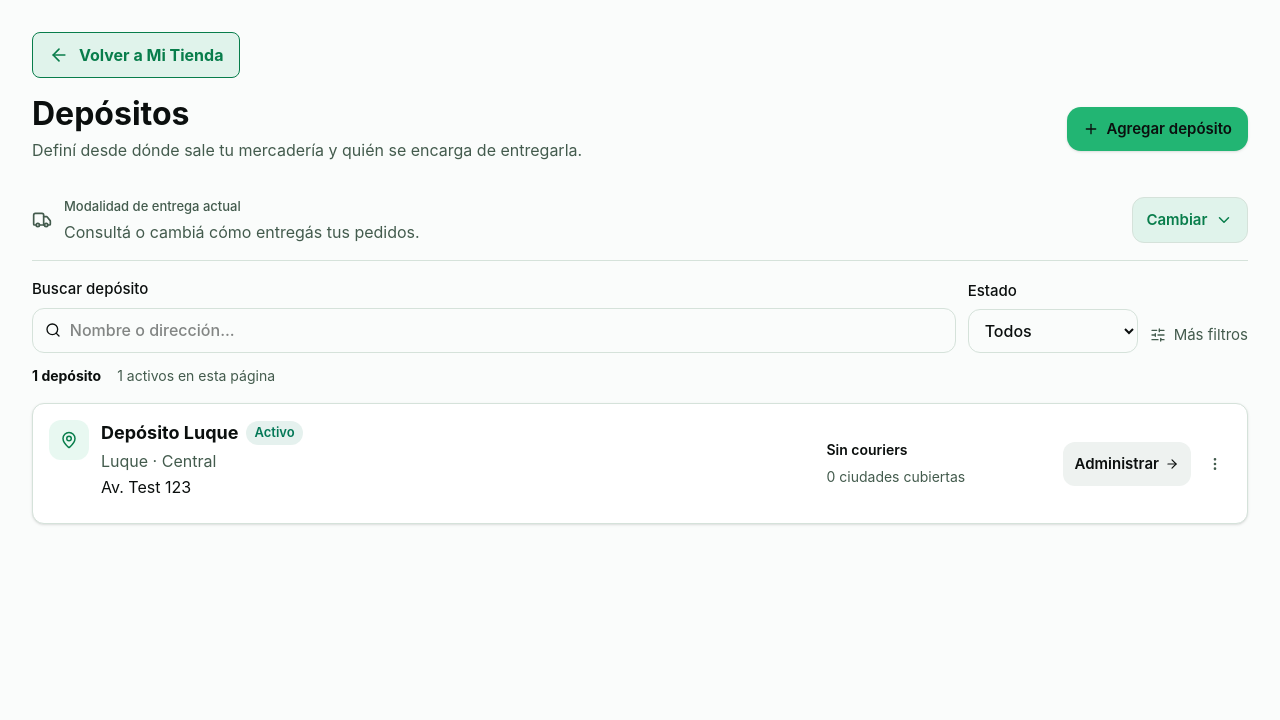
Test case: Depósitos: alta simple › pagina el catálogo RAHA completo sin recortarlo en el frontend
This screenshot has width=1280, height=720.
Check: the heading "Depósito Luque" is shown, box [101,420,238,446]
Click the button "Administrar": (1127, 464) [1062,442,1191,486]
(page scrolled)
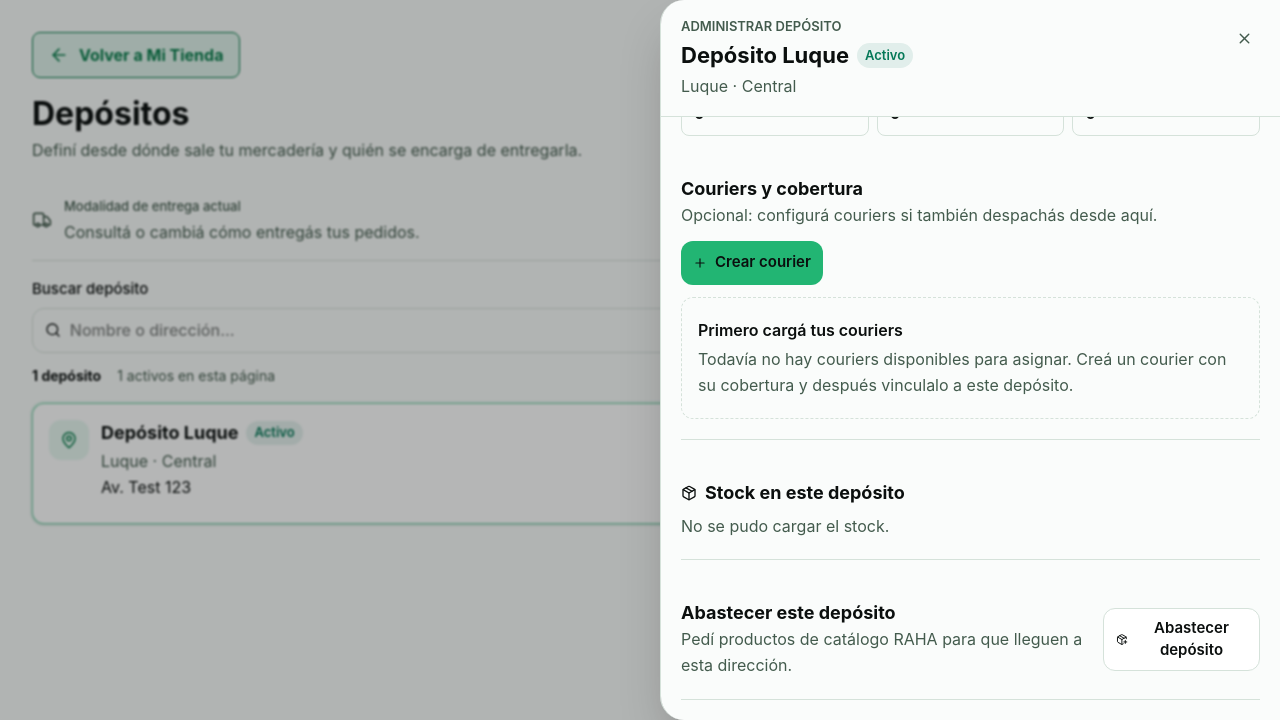
Click the button "Abastecer depósito": (1182, 639) [1103,608,1260,671]
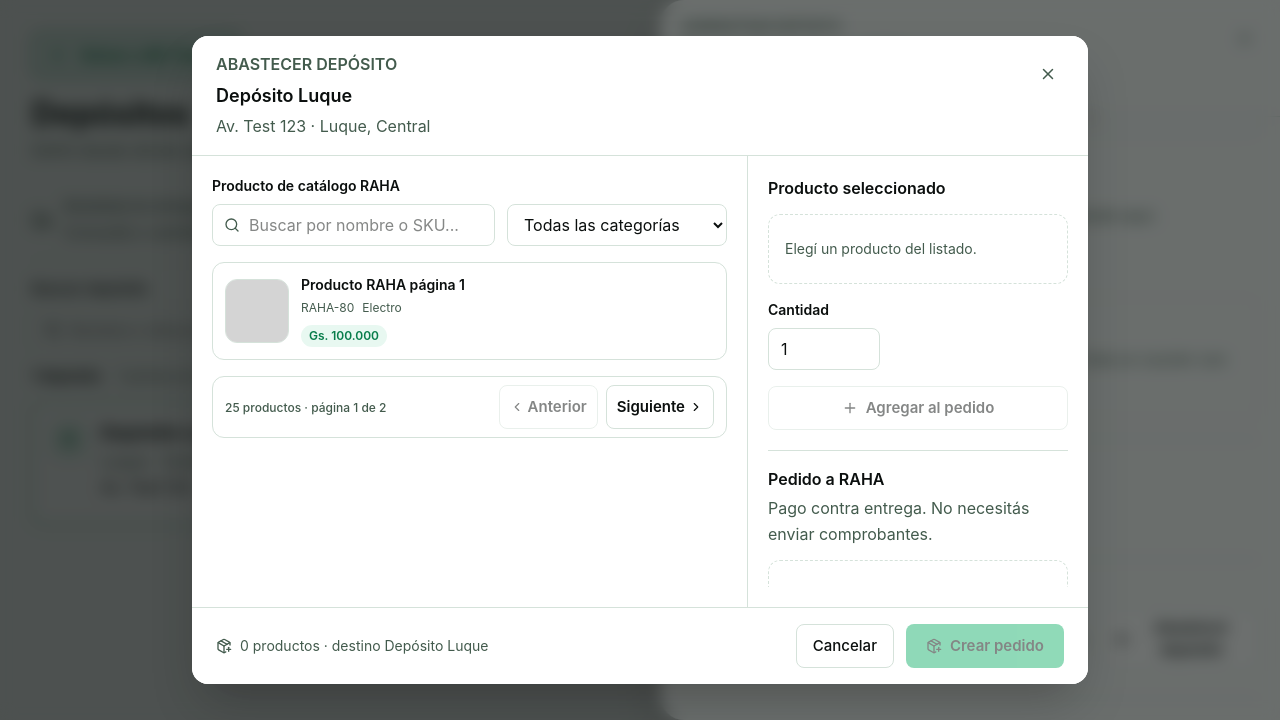
Check: the text "Producto RAHA página 1" is shown, box [301,276,465,293]
Check: the text "25 productos · página 1 de 2" is shown, box [225,398,386,417]
Click the button "Siguiente": (660, 407) [606,385,714,429]
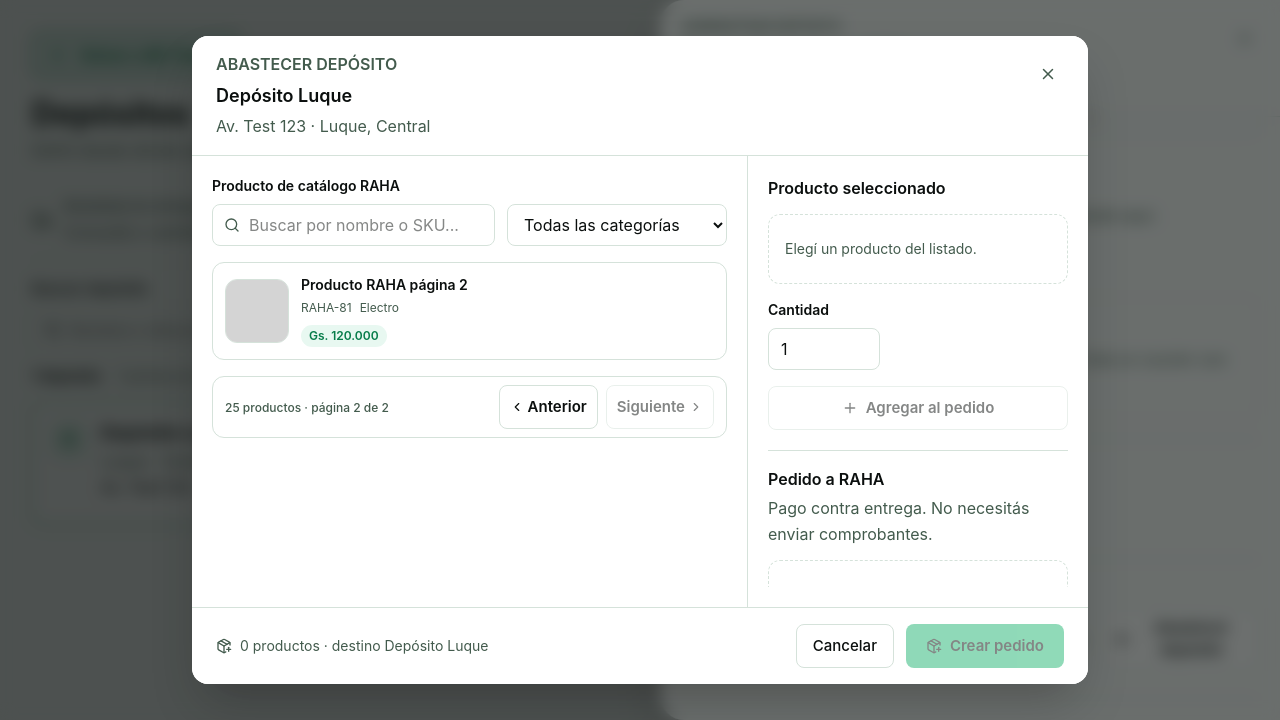
Check: the text "Producto RAHA página 2" is shown, box [301,276,468,293]
